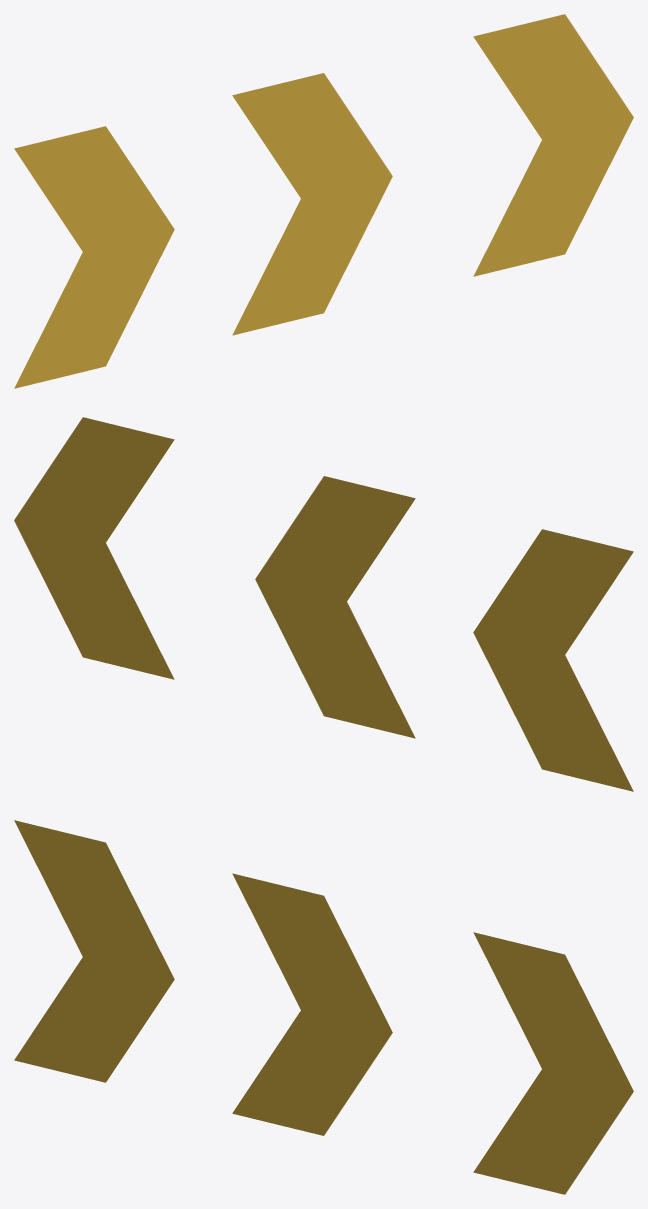
File: TurnArrowsFlat.fbx
3 renders of one model, top to bottom at view 1: azimuth 30°, elevation 25°; view 2: azimuth 150°, elevation 25°; view 3: azimuth 330°, elevation 25°, orthographic.
Parts seen in each view (by area): view 1: TurnArrowsFlat; view 2: TurnArrowsFlat; view 3: TurnArrowsFlat.
Part boxes in pixels (x1,y1,x2,y2): TurnArrowsFlat: (14, 14, 633, 388); TurnArrowsFlat: (14, 417, 633, 791); TurnArrowsFlat: (14, 820, 633, 1194).
Size of the model in its own units: 540 by 200 by 8.74e-06.
